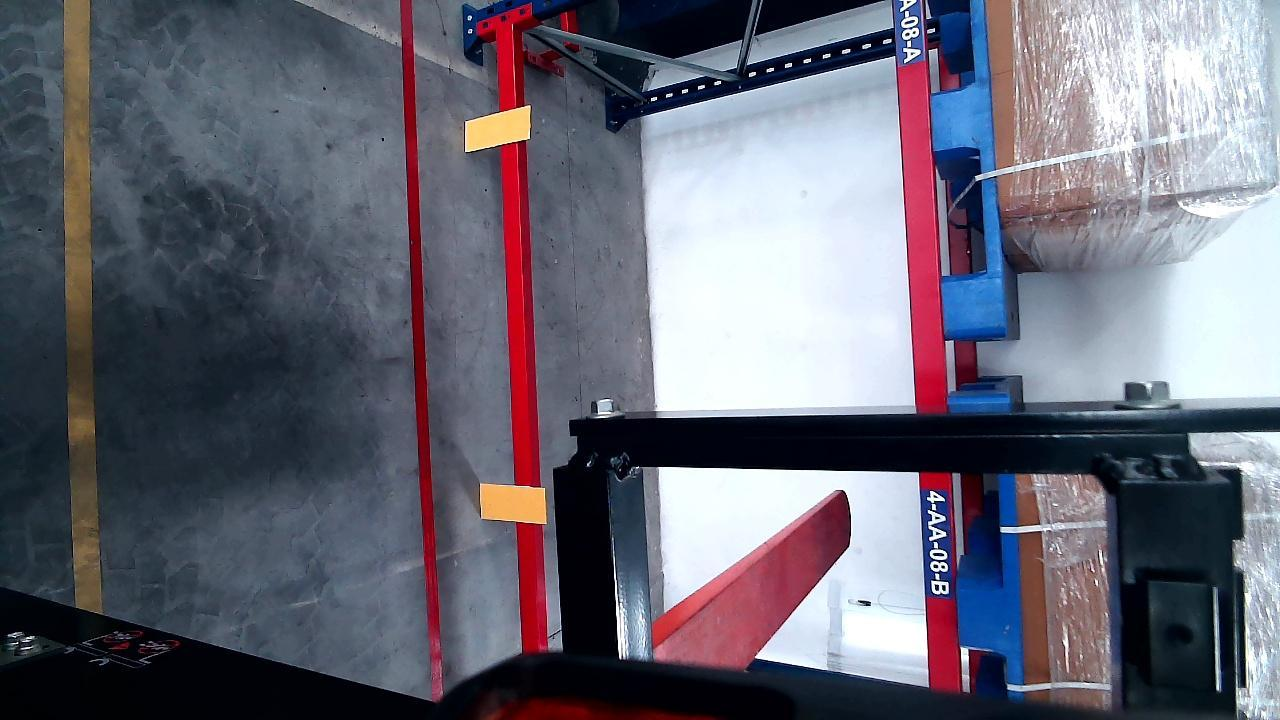red_line: (397, 1, 446, 703)
yellow_line: (61, 1, 102, 612)
